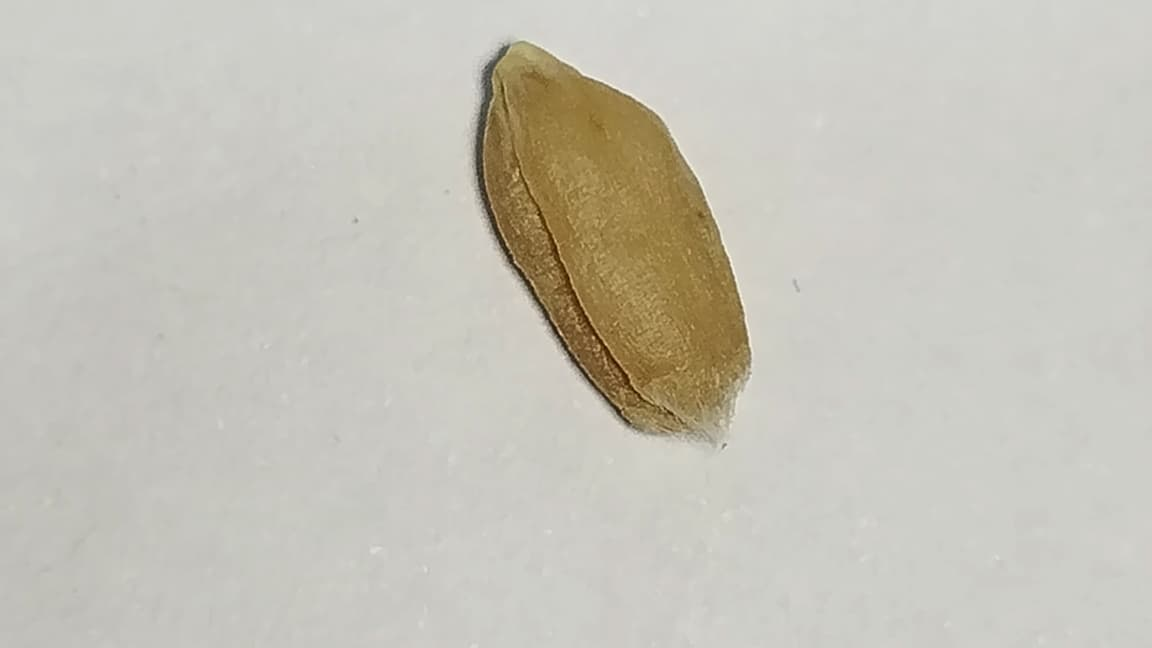healthy: (483, 42, 749, 434)
